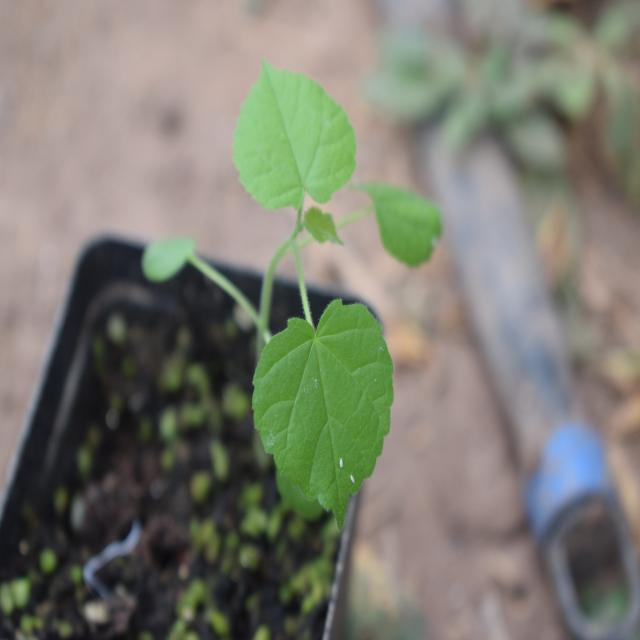abutilon theophrasti: (145, 62, 445, 513)
